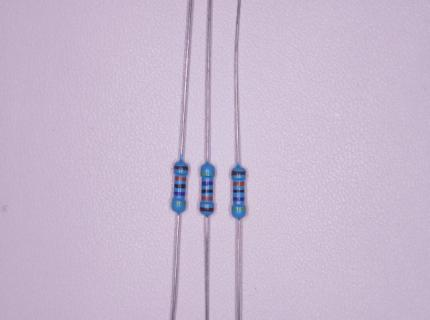Black band: (174, 183, 186, 189), (233, 189, 245, 193), (201, 189, 213, 193)
Brown band: (173, 165, 188, 171), (231, 170, 246, 176), (200, 207, 214, 212)
Orange band: (174, 176, 186, 181), (201, 196, 213, 201), (233, 181, 245, 186)
Violet band: (173, 191, 185, 196), (202, 181, 213, 186), (233, 197, 245, 201)
Yellow band: (200, 172, 215, 176), (171, 201, 186, 205), (231, 207, 246, 211)
